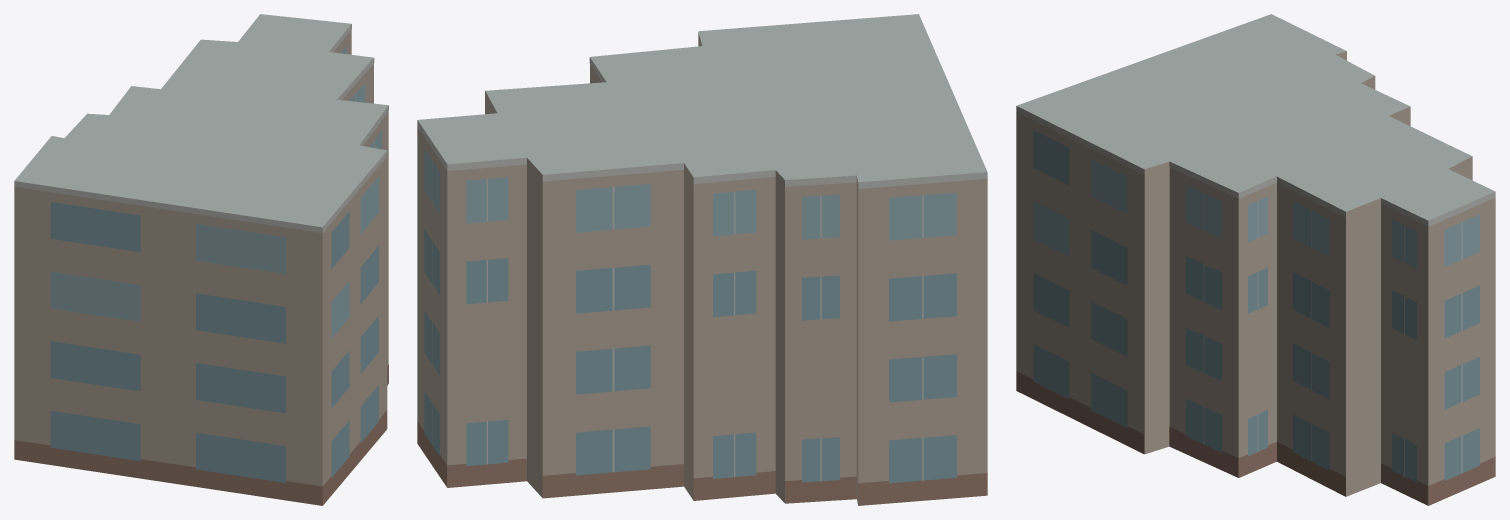
File: survey-upis-32938122.glb
3 renders of one model, left to right at view 1: azimuth 30°, elevation 25°; view 2: azimuth 150°, elevation 25°; view 3: azimuth 270°, elevation 25°, orthographic. The views are drawn at different scales.
Visible parts, largest first — view 1: survey-upis-32938122.tmp; view 2: survey-upis-32938122.tmp; view 3: survey-upis-32938122.tmp.
Part boxes in pixels (bbox=[...]): survey-upis-32938122.tmp: bbox=[14, 14, 388, 505]; survey-upis-32938122.tmp: bbox=[417, 14, 987, 505]; survey-upis-32938122.tmp: bbox=[1016, 14, 1495, 505].
Size of the model in its own units: 18.21 by 11.7 by 17.84.
